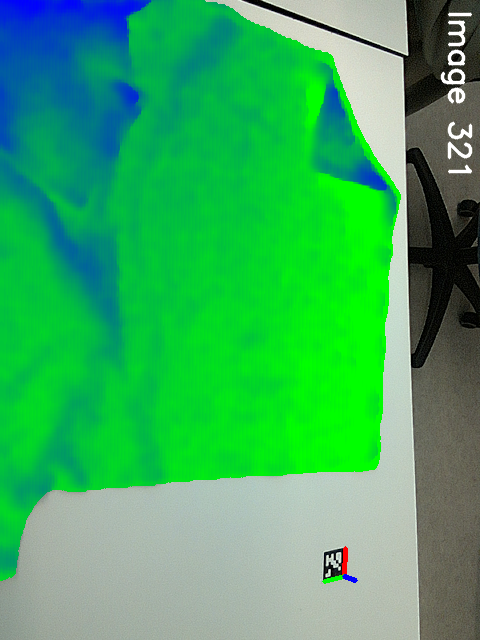V: (292, 127, 343, 187)
